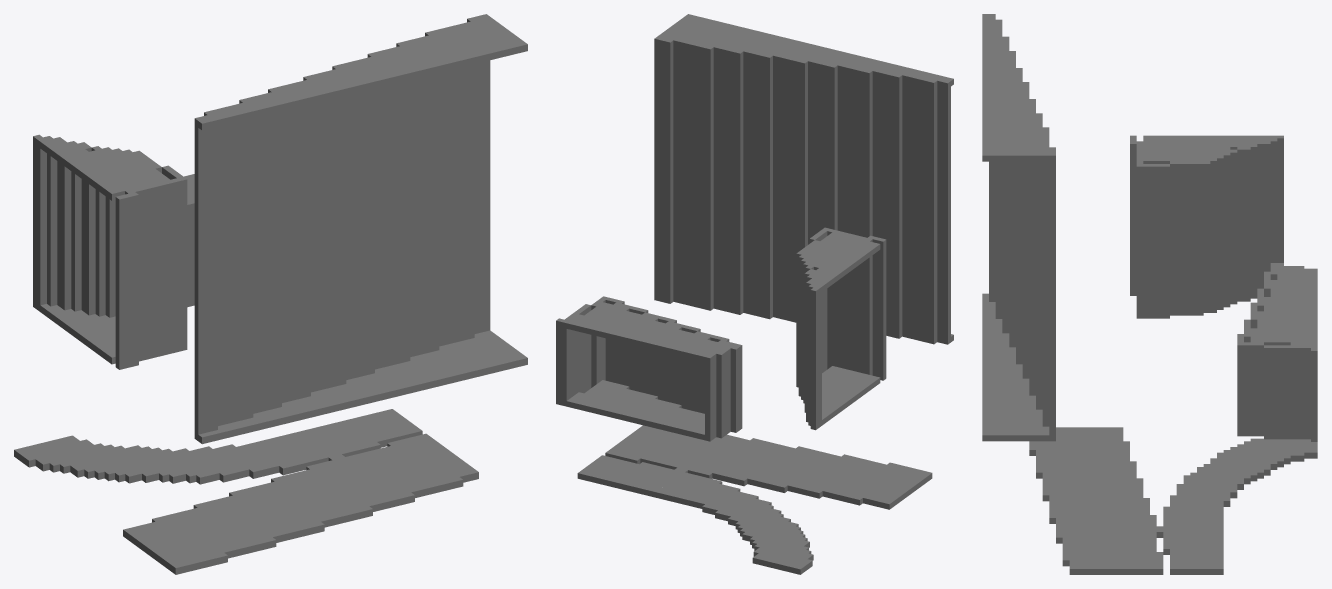
File: tile_0_4.glb
The picture shows the model from 3 angles, left to right: view 1: azimuth 30°, elevation 25°; view 2: azimuth 150°, elevation 25°; view 3: azimuth 270°, elevation 25°; orthographic projection. The views are drawn at different scales.
Visible parts, largest first — view 1: universal_minecraft:concrete:south, universal_minecraft:concrete:up, universal_minecraft:stone_bricks:south, universal_minecraft:grass_block:up, universal_minecraft:stone_bricks:west, universal_minecraft:stained_terracotta:up, universal_minecraft:terracotta:up, universal_minecraft:concrete:west, universal_minecraft:grass_block:south, universal_minecraft:stained_terracotta:south, universal_minecraft:stone_bricks:up; view 2: universal_minecraft:concrete:north, universal_minecraft:concrete:up, universal_minecraft:stone_bricks:north, universal_minecraft:concrete:west, universal_minecraft:stone_bricks:west, universal_minecraft:terracotta:up, universal_minecraft:grass_block:up, universal_minecraft:stained_terracotta:up, universal_minecraft:stone_bricks:up, universal_minecraft:terracotta:north, universal_minecraft:grass_block:north; view 3: universal_minecraft:stone_bricks:east, universal_minecraft:concrete:up, universal_minecraft:concrete:east, universal_minecraft:terracotta:up, universal_minecraft:grass_block:up, universal_minecraft:stained_terracotta:up, universal_minecraft:stone_bricks:up, universal_minecraft:grass_block:east, universal_minecraft:stained_terracotta:east.
Part boxes in pixels (left/top/right/bottom): universal_minecraft:concrete:south: left=29, top=60, right=490, bottom=574; universal_minecraft:concrete:up: left=14, top=14, right=489, bottom=567; universal_minecraft:stone_bricks:south: left=40, top=147, right=194, bottom=369; universal_minecraft:grass_block:up: left=41, top=304, right=527, bottom=437; universal_minecraft:stone_bricks:west: left=33, top=136, right=176, bottom=369; universal_minecraft:stained_terracotta:up: left=199, top=17, right=527, bottom=123; universal_minecraft:terracotta:up: left=41, top=140, right=194, bottom=201; universal_minecraft:concrete:west: left=14, top=19, right=470, bottom=574; universal_minecraft:grass_block:south: left=112, top=357, right=527, bottom=444; universal_minecraft:stained_terracotta:south: left=202, top=44, right=527, bottom=130; universal_minecraft:stone_bricks:up: left=33, top=134, right=194, bottom=204; universal_minecraft:concrete:north: left=577, top=38, right=947, bottom=574; universal_minecraft:concrete:up: left=578, top=36, right=950, bottom=569; universal_minecraft:stone_bricks:north: left=556, top=231, right=883, bottom=441; universal_minecraft:concrete:west: left=637, top=41, right=950, bottom=574; universal_minecraft:stone_bricks:west: left=566, top=231, right=886, bottom=441; universal_minecraft:terracotta:up: left=567, top=232, right=879, bottom=356; universal_minecraft:grass_block:up: left=567, top=334, right=953, bottom=434; universal_minecraft:stained_terracotta:up: left=658, top=14, right=953, bottom=80; universal_minecraft:stone_bricks:up: left=556, top=227, right=885, bottom=357; universal_minecraft:terracotta:north: left=566, top=267, right=818, bottom=362; universal_minecraft:grass_block:north: left=566, top=401, right=704, bottom=440; universal_minecraft:stone_bricks:east: left=1130, top=138, right=1317, bottom=441; universal_minecraft:concrete:up: left=989, top=14, right=1317, bottom=568; universal_minecraft:concrete:east: left=989, top=155, right=1317, bottom=574; universal_minecraft:terracotta:up: left=1143, top=135, right=1317, bottom=345; universal_minecraft:grass_block:up: left=982, top=293, right=1049, bottom=435; universal_minecraft:stained_terracotta:up: left=982, top=14, right=1049, bottom=155; universal_minecraft:stone_bricks:up: left=1130, top=135, right=1317, bottom=350; universal_minecraft:grass_block:east: left=982, top=435, right=1049, bottom=441; universal_minecraft:stained_terracotta:east: left=982, top=155, right=1049, bottom=161.
Size of the model in its own units: 50 by 69 by 50.
29 materials, 29 textured.
